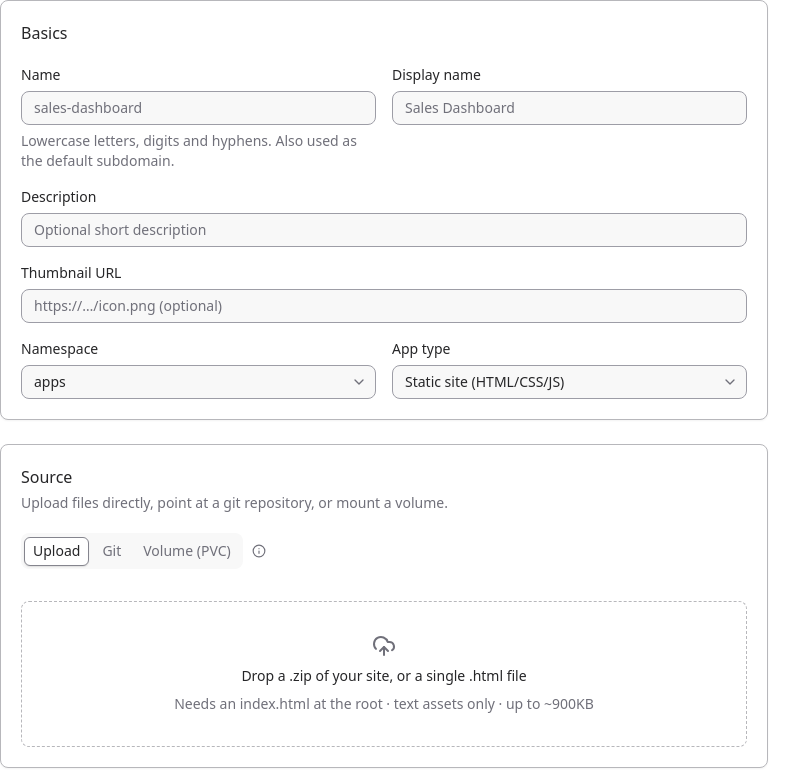
Scenario: AppForm (create) › rejects a subdomain that is not a DNS label
Type "sales" into the field labelled "Name" at (198, 108), box [21, 91, 376, 125]
(page scrolled)
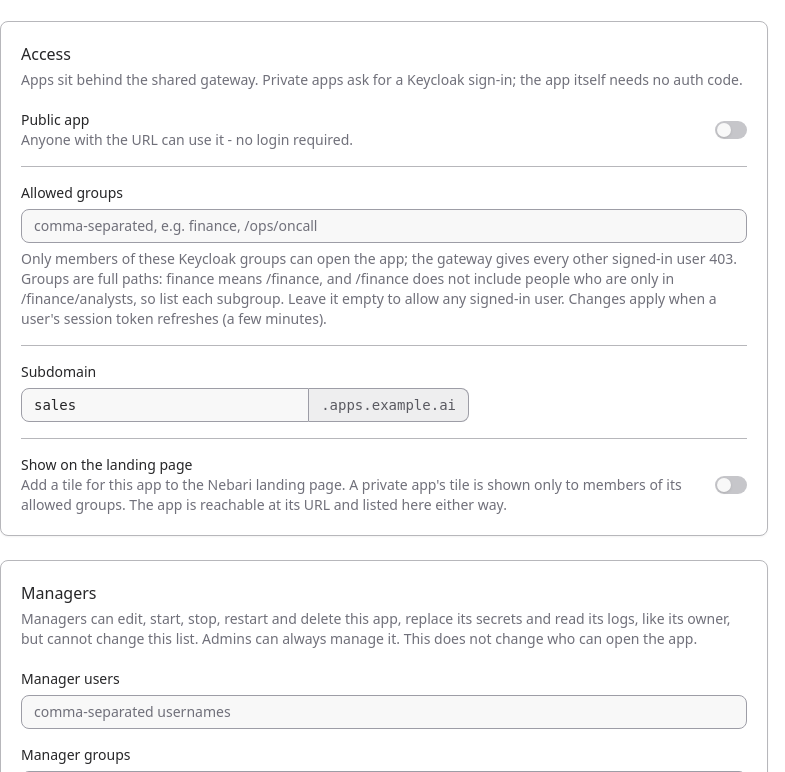
Replace the text in the field labelled "Subdomain" with "-sales" at (165, 405), box [21, 388, 309, 422]
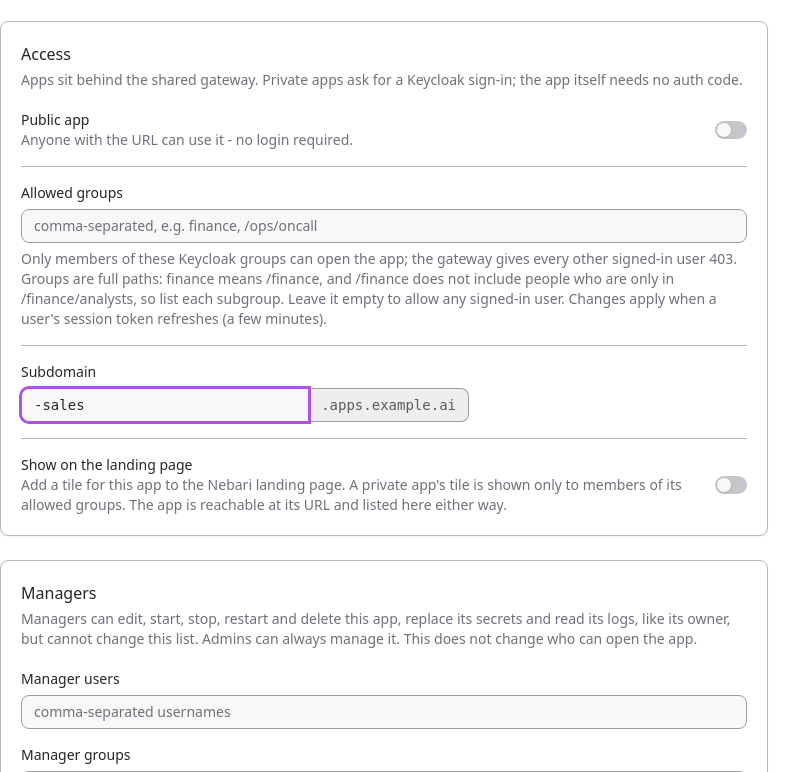
Press Tab
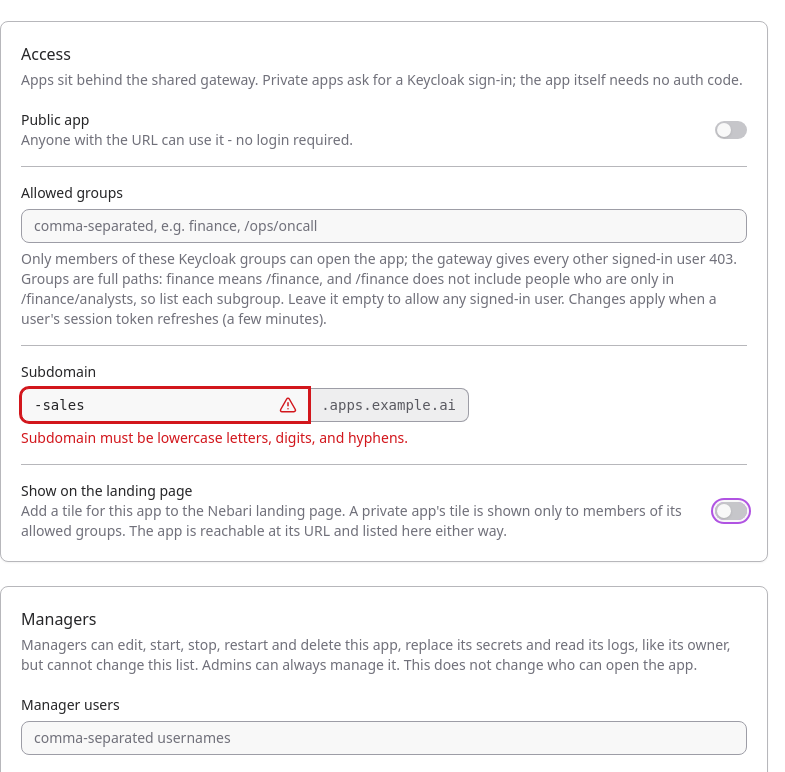
Result: the text with id "subdomain-error" reads "Subdomain must be lowercase letters, digits, and hyphens." at [21, 428, 408, 447]
